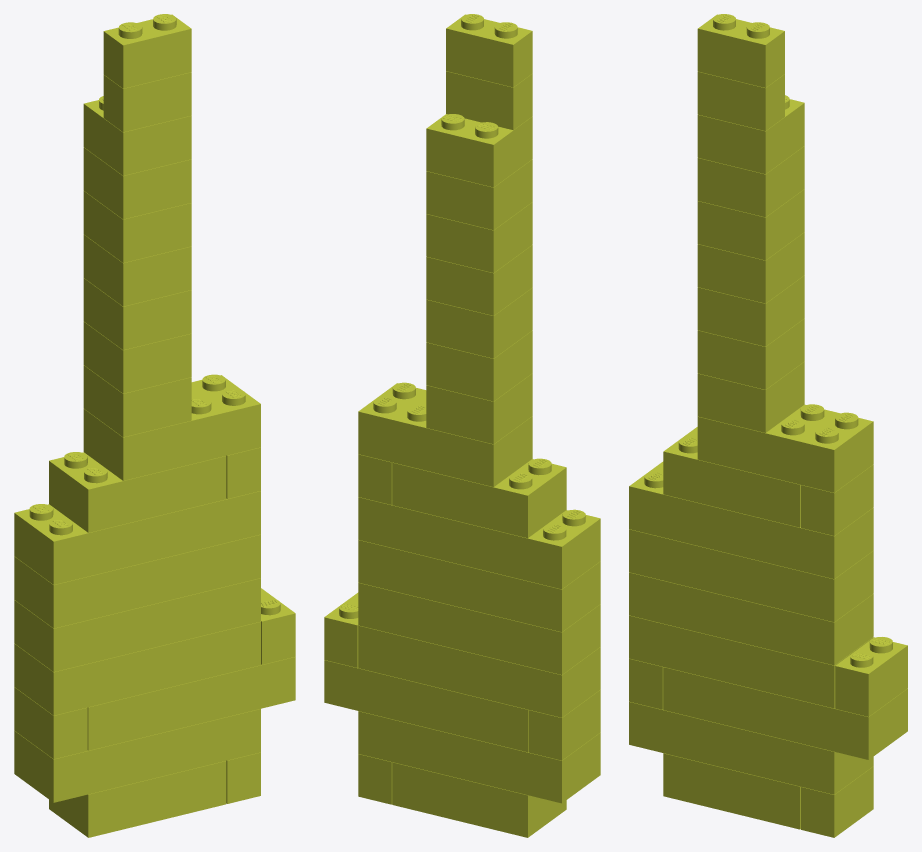
File: fullpipeline_2b72305a_1_a_super_cool_guitar_seed789.glb
3 views of the same model, side by side, from view 1: azimuth 30°, elevation 25°; view 2: azimuth 150°, elevation 25°; view 3: azimuth 330°, elevation 25° (orthographic).
Visible parts, largest first — view 1: 00010_2456.DAT, 00003_2456.DAT, 00009_2456.DAT, 00007_2456.DAT, 00008_2456.DAT, 00013_3001.DAT, 00004_2456.DAT, 00012_3001.DAT, 00002_3001.DAT, 00022_3004.DAT, 00020_3003.DAT, 00015_3003.DAT (+10 smaller); view 2: 00010_2456.DAT, 00007_2456.DAT, 00003_2456.DAT, 00008_2456.DAT, 00009_2456.DAT, 00013_3001.DAT, 00012_3001.DAT, 00004_2456.DAT, 00002_3001.DAT, 00020_3003.DAT, 00022_3004.DAT, 00015_3003.DAT (+10 smaller); view 3: 00010_2456.DAT, 00004_2456.DAT, 00008_2456.DAT, 00009_2456.DAT, 00013_3001.DAT, 00003_2456.DAT, 00007_2456.DAT, 00012_3001.DAT, 00002_3001.DAT, 00022_3004.DAT, 00020_3003.DAT, 00017_3003.DAT (+10 smaller).
Boxes of the visible parts, left/top/right/bottom form: 00010_2456.DAT: left=14, top=491, right=260, bottom=584; 00003_2456.DAT: left=14, top=709, right=260, bottom=802; 00009_2456.DAT: left=14, top=534, right=260, bottom=628; 00007_2456.DAT: left=14, top=621, right=260, bottom=715; 00008_2456.DAT: left=14, top=578, right=260, bottom=671; 00013_3001.DAT: left=83, top=374, right=260, bottom=480; 00004_2456.DAT: left=87, top=657, right=295, bottom=750; 00012_3001.DAT: left=49, top=452, right=226, bottom=532; 00002_3001.DAT: left=49, top=761, right=226, bottom=837; 00022_3004.DAT: left=103, top=14, right=191, bottom=88; 00020_3003.DAT: left=83, top=96, right=191, bottom=175; 00015_3003.DAT: left=83, top=321, right=191, bottom=393; 00010_2456.DAT: left=358, top=497, right=600, bottom=589; 00007_2456.DAT: left=358, top=625, right=600, bottom=717; 00003_2456.DAT: left=358, top=711, right=600, bottom=803; 00008_2456.DAT: left=358, top=582, right=600, bottom=674; 00009_2456.DAT: left=358, top=540, right=600, bottom=631; 00013_3001.DAT: left=358, top=382, right=532, bottom=486; 00012_3001.DAT: left=392, top=458, right=566, bottom=538; 00004_2456.DAT: left=324, top=660, right=528, bottom=752; 00002_3001.DAT: left=392, top=762, right=566, bottom=837; 00020_3003.DAT: left=426, top=114, right=532, bottom=187; 00022_3004.DAT: left=446, top=14, right=532, bottom=87; 00015_3003.DAT: left=426, top=330, right=532, bottom=401; 00010_2456.DAT: left=629, top=461, right=873, bottom=578; 00004_2456.DAT: left=663, top=667, right=907, bottom=759; 00008_2456.DAT: left=629, top=572, right=873, bottom=665; 00009_2456.DAT: left=629, top=529, right=873, bottom=622; 00013_3001.DAT: left=697, top=404, right=873, bottom=492; 00003_2456.DAT: left=629, top=702, right=873, bottom=794; 00007_2456.DAT: left=629, top=615, right=873, bottom=708; 00012_3001.DAT: left=663, top=427, right=800, bottom=527; 00002_3001.DAT: left=663, top=753, right=800, bottom=829; 00022_3004.DAT: left=697, top=14, right=784, bottom=87; 00020_3003.DAT: left=697, top=95, right=804, bottom=173; 00017_3003.DAT: left=697, top=232, right=804, bottom=303.
Bounding box in the file's own units: 0.0558 × 0.1743 × 0.0158.
